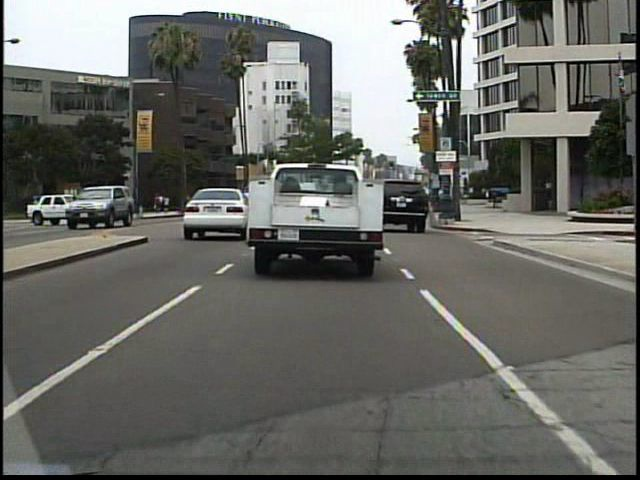person: (90, 187, 106, 222), (124, 183, 140, 214), (79, 190, 93, 221)
